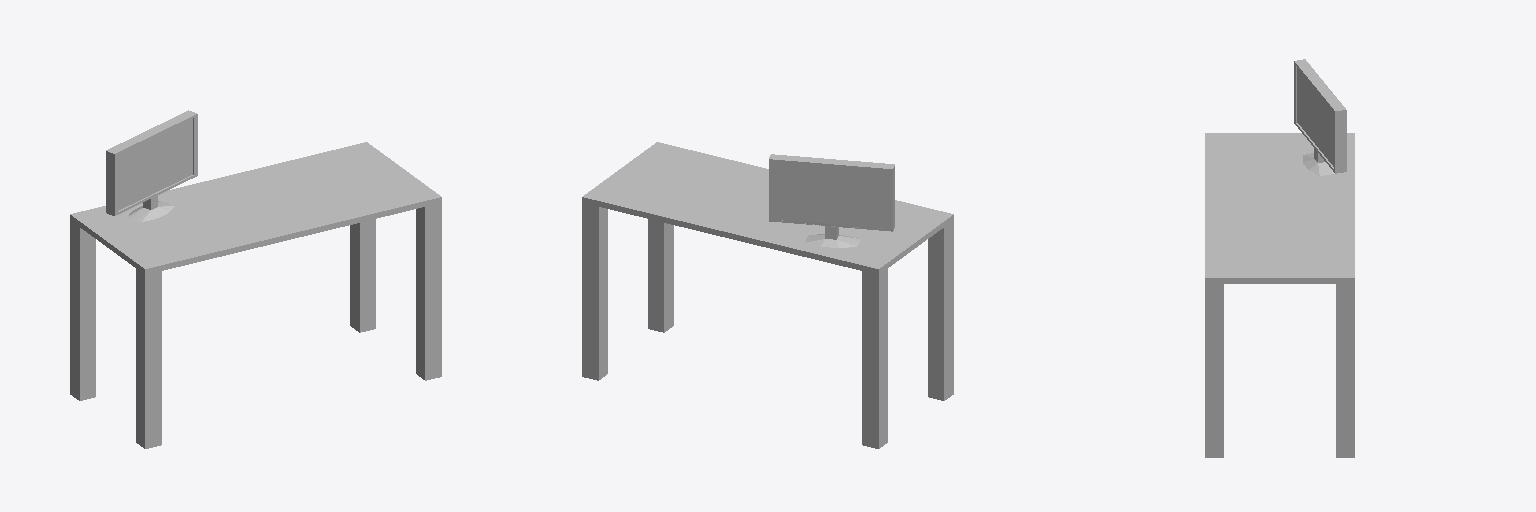
Rendered from Nauka4.obj.
3 views of the same model, side by side, from view 1: azimuth 30°, elevation 25°; view 2: azimuth 150°, elevation 25°; view 3: azimuth 270°, elevation 25° (orthographic).
Parts seen in each view (by area): view 1: Biurko+komp_Cube.008; view 2: Biurko+komp_Cube.008; view 3: Biurko+komp_Cube.008.
Boxes of the visible parts, x1,y1,x2,y2 form: Biurko+komp_Cube.008: [70, 110, 441, 448]; Biurko+komp_Cube.008: [582, 142, 953, 448]; Biurko+komp_Cube.008: [1205, 59, 1354, 457].
Size of the model in its own units: 2.71 by 2.26 by 1.19.